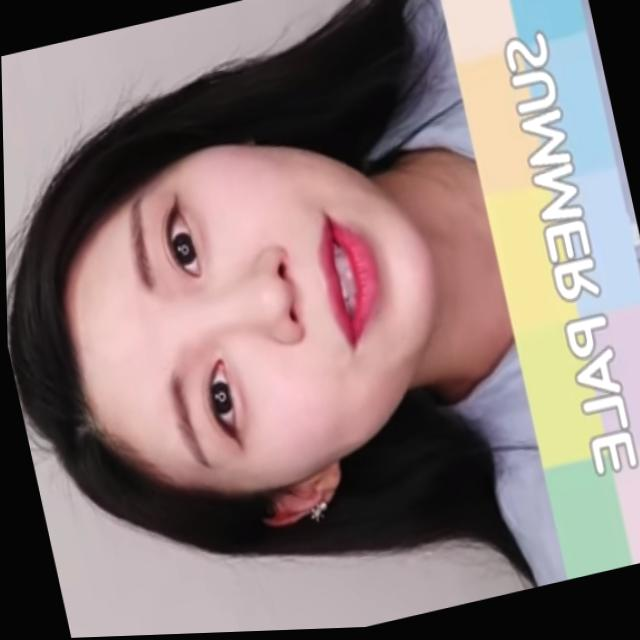face: (37, 120, 458, 509)
